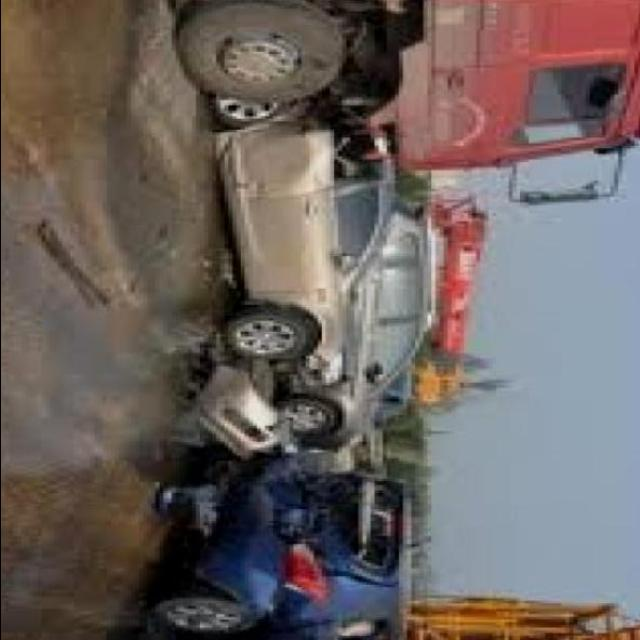accident: (154, 0, 517, 256), (154, 401, 430, 640)
